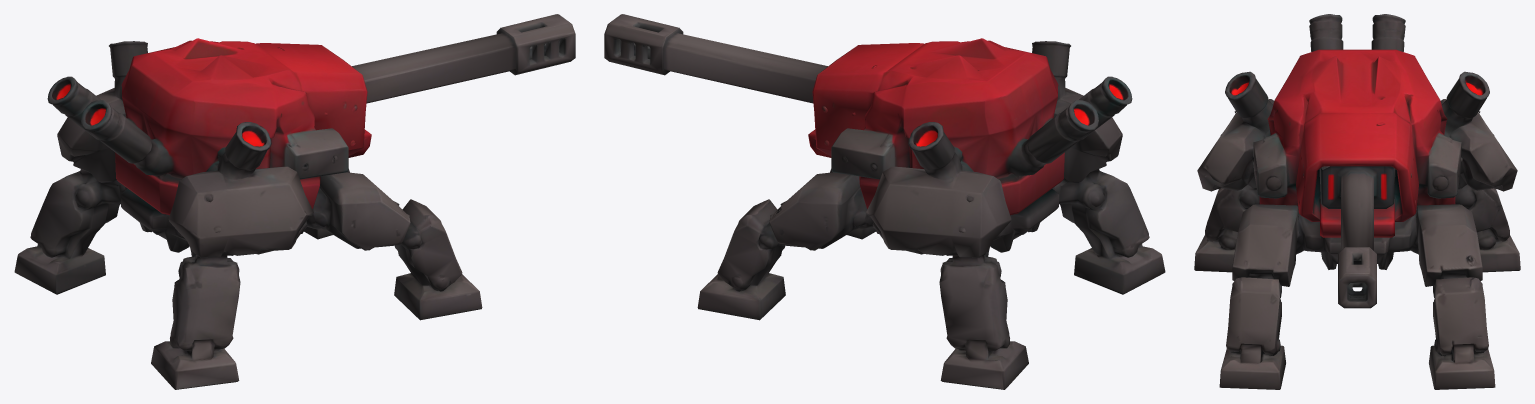
Rendered from fortress_turret.glb.
The picture shows the model from 3 angles, left to right: view 1: azimuth 30°, elevation 25°; view 2: azimuth 150°, elevation 25°; view 3: azimuth 270°, elevation 25°; orthographic projection. The views are drawn at different scales.
Visible parts, largest first — view 1: tripo_node_b200e42b-d38d-48f9-be86-47d7cff9afa3; view 2: tripo_node_b200e42b-d38d-48f9-be86-47d7cff9afa3; view 3: tripo_node_b200e42b-d38d-48f9-be86-47d7cff9afa3.
Part boxes in pixels (x1,y1,x2,y2): tripo_node_b200e42b-d38d-48f9-be86-47d7cff9afa3: (14, 14, 575, 389); tripo_node_b200e42b-d38d-48f9-be86-47d7cff9afa3: (604, 14, 1165, 389); tripo_node_b200e42b-d38d-48f9-be86-47d7cff9afa3: (1194, 14, 1520, 389).
Bounding box in the file's own units: 1 × 0.4912 × 0.6047.
Materials: 1 (1 with a texture image).
